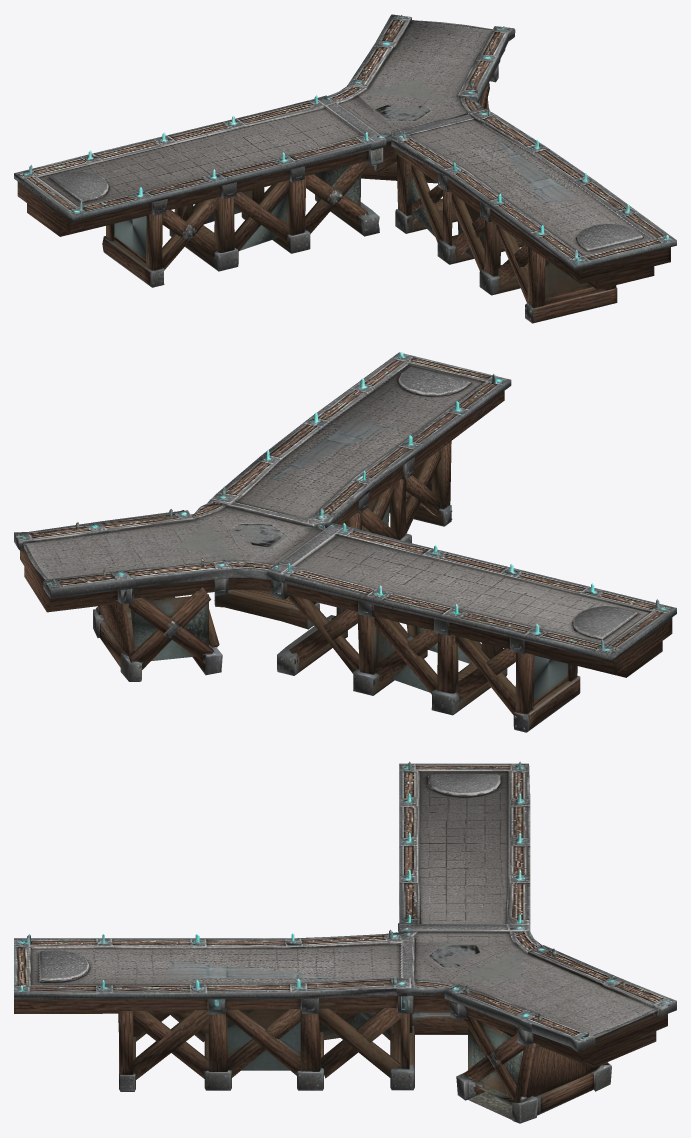
The model's file is tripo_convert_e26db037-a81d-492e-91de-45a3f3c46b75.fbx.
3 renders of one model, top to bottom at view 1: azimuth 30°, elevation 25°; view 2: azimuth 150°, elevation 25°; view 3: azimuth 270°, elevation 25°, orthographic. The views are drawn at different scales.
Parts seen in each view (by area): view 1: tripo_node_e26db037; view 2: tripo_node_e26db037; view 3: tripo_node_e26db037.
Part boxes in pixels (x1,y1,x2,y2): tripo_node_e26db037: (14, 14, 676, 323); tripo_node_e26db037: (14, 352, 676, 732); tripo_node_e26db037: (14, 761, 676, 1123).
Bounding box in the file's own units: 0.998 × 0.1895 × 0.998.
1 material, 1 textured.
